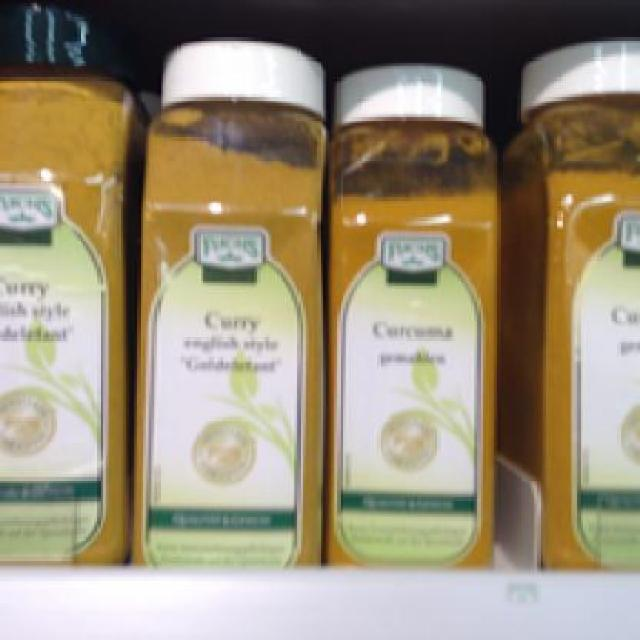Spices: (126, 31, 320, 564), (323, 60, 503, 569), (0, 0, 126, 557), (505, 34, 638, 557)
